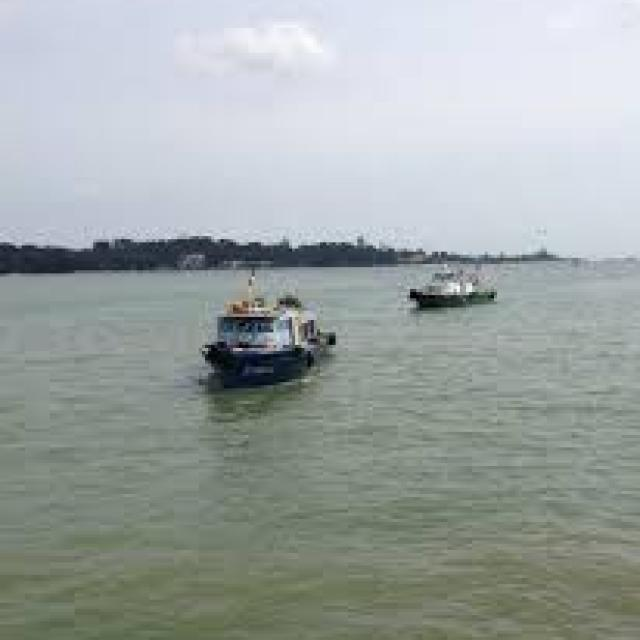houseboat: (204, 276, 340, 379), (410, 258, 495, 308)
